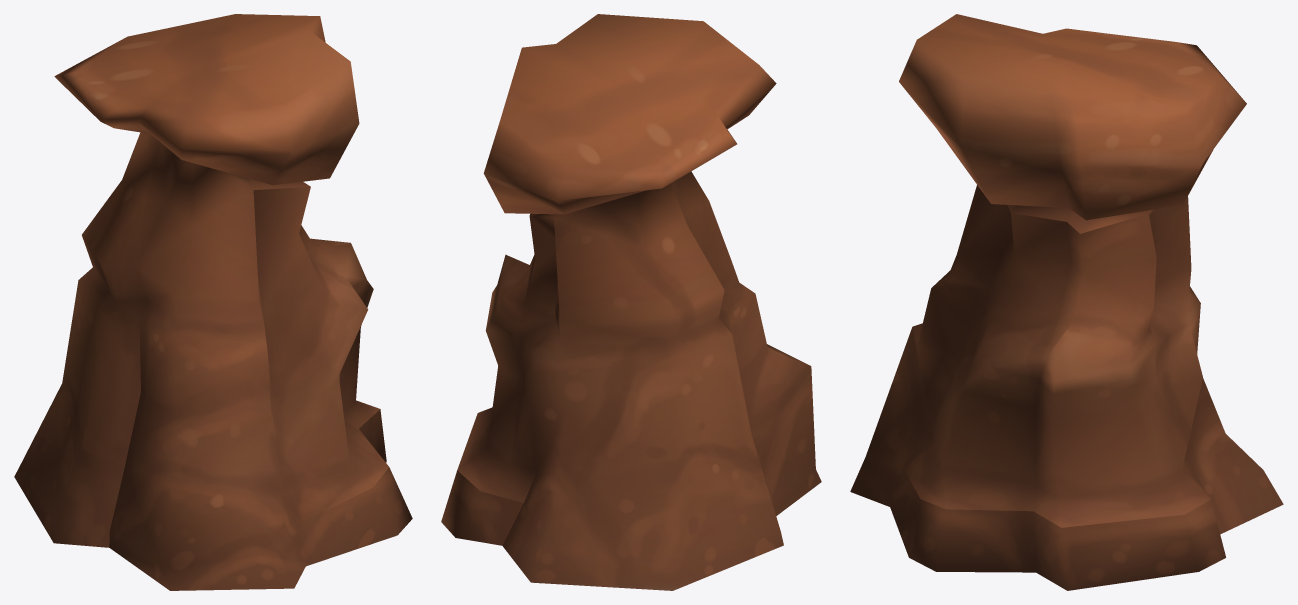
The model's file is RockFormation_06.fbx.
3 views of the same model, side by side, from view 1: azimuth 30°, elevation 25°; view 2: azimuth 150°, elevation 25°; view 3: azimuth 270°, elevation 25° (orthographic). The views are drawn at different scales.
Parts seen in each view (by area): view 1: RockFormation_06_GEO1; view 2: RockFormation_06_GEO1; view 3: RockFormation_06_GEO1.
Boxes of the visible parts, <box> form: RockFormation_06_GEO1: <box>14,14,412,590</box>; RockFormation_06_GEO1: <box>441,14,821,590</box>; RockFormation_06_GEO1: <box>850,14,1283,590</box>.
Size of the model in its own units: 12.7 by 16.74 by 14.07.
